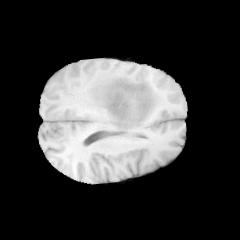glioma: (90, 76, 163, 130)
